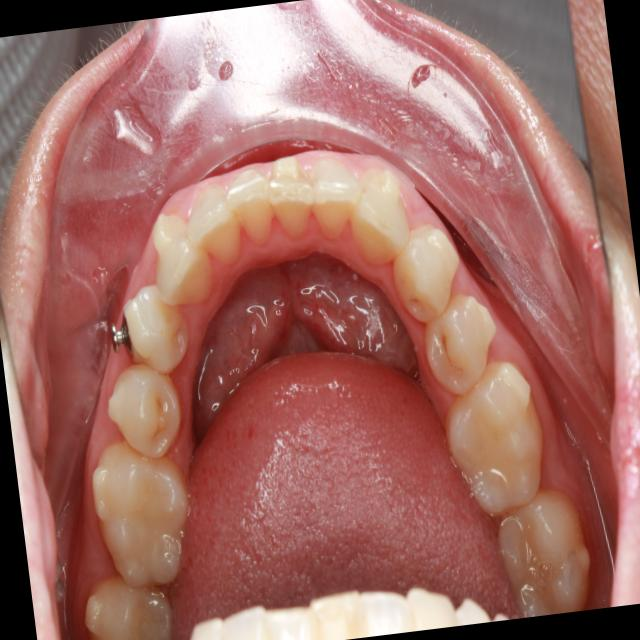tooth: (435, 352, 562, 546), (77, 428, 207, 611), (481, 476, 600, 621), (414, 282, 512, 417), (339, 157, 432, 294), (107, 266, 203, 397), (383, 212, 473, 342), (99, 352, 201, 464), (138, 202, 219, 316), (70, 562, 182, 640), (301, 149, 376, 257), (175, 175, 252, 280), (256, 152, 326, 252), (220, 161, 288, 260)
